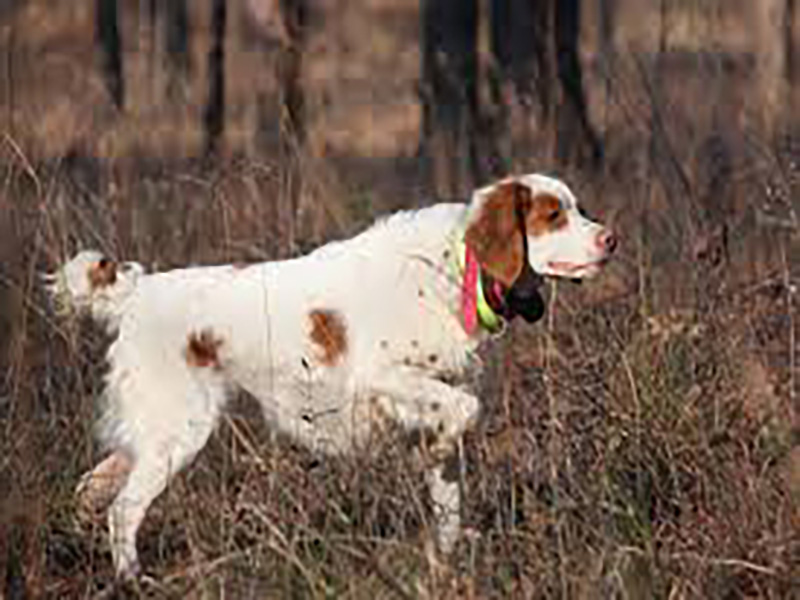cane da caccia: (90, 139, 616, 553)
